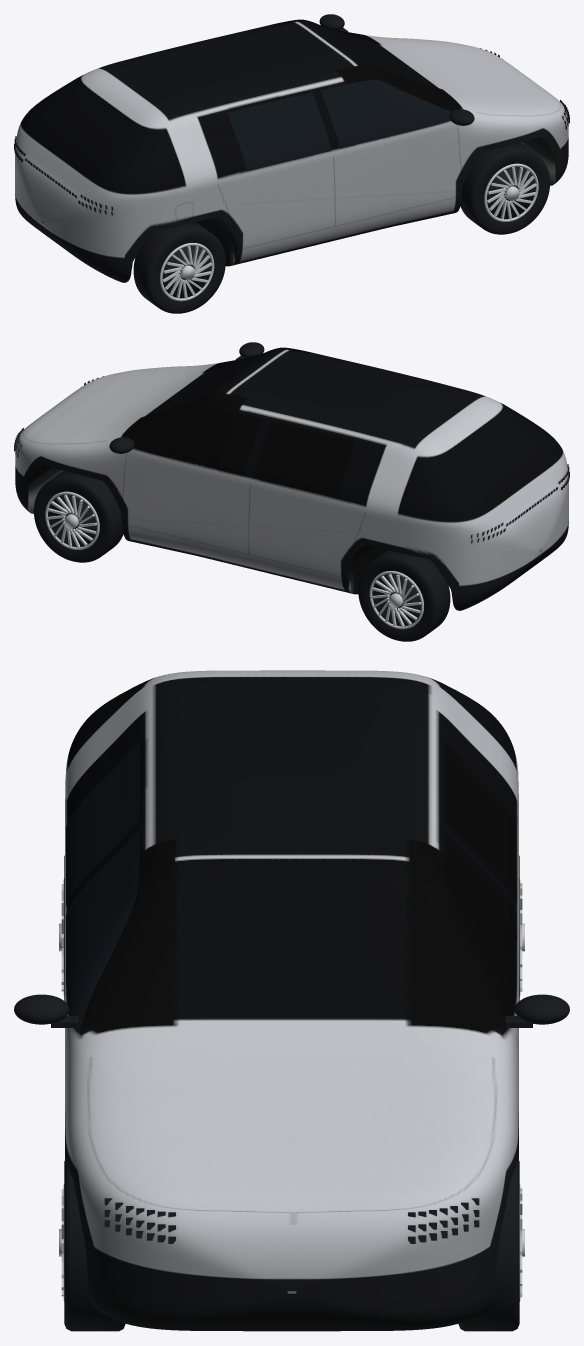
Rendered from ioniq5.glb.
3 renders of one model, top to bottom at view 1: azimuth 30°, elevation 25°; view 2: azimuth 150°, elevation 25°; view 3: azimuth 270°, elevation 25°, orthographic. The views are drawn at different scales.
Parts seen in each view (by area): view 1: body, wheel_rr, wheel_fr, window_fr, window_rr, lamp_tail; view 2: body, wheel_rl, wheel_fl, lamp_tail; view 3: body, window_fr, window_rr, wheel_fl, wheel_fr, lamp_head, mirror_l, mirror_r.
Part boxes in pixels (bbox=[...]): body: bbox=[15, 19, 568, 282]; wheel_rr: bbox=[133, 222, 225, 313]; wheel_fr: bbox=[460, 143, 549, 234]; window_fr: bbox=[320, 79, 451, 148]; window_rr: bbox=[227, 92, 331, 171]; lamp_tail: bbox=[14, 136, 112, 215]; body: bbox=[15, 347, 568, 610]; wheel_rl: bbox=[358, 550, 450, 641]; wheel_fl: bbox=[34, 471, 123, 562]; lamp_tail: bbox=[471, 464, 569, 543]; body: bbox=[65, 670, 518, 1331]; window_fr: bbox=[66, 830, 139, 1032]; window_rr: bbox=[66, 741, 139, 906]; wheel_fl: bbox=[458, 1158, 524, 1331]; wheel_fr: bbox=[59, 1158, 125, 1331]; lamp_head: bbox=[104, 1198, 479, 1243]; mirror_l: bbox=[505, 994, 569, 1027]; mirror_r: bbox=[14, 994, 78, 1027].
Size of the model in its own units: 4.84 by 1.68 by 2.41.
Materials: 9 (1 with a texture image).
